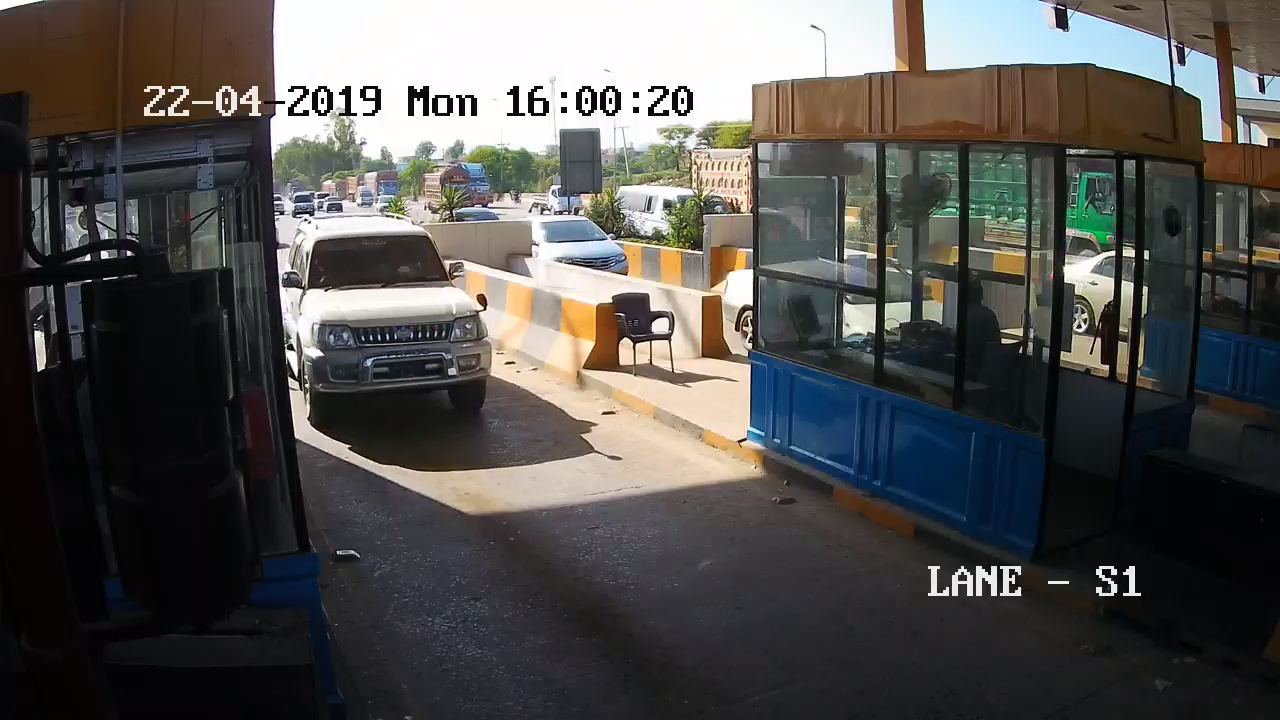car: (284, 217, 508, 448)
